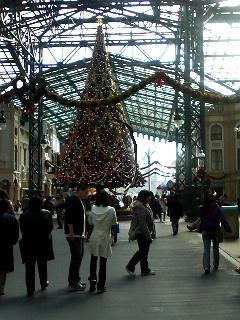tampered: (108, 121, 137, 195)
